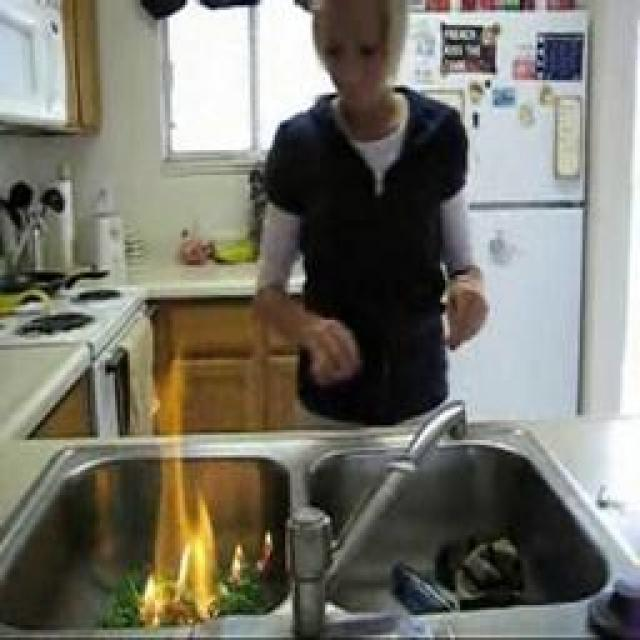Fire: (152, 391, 262, 614)
